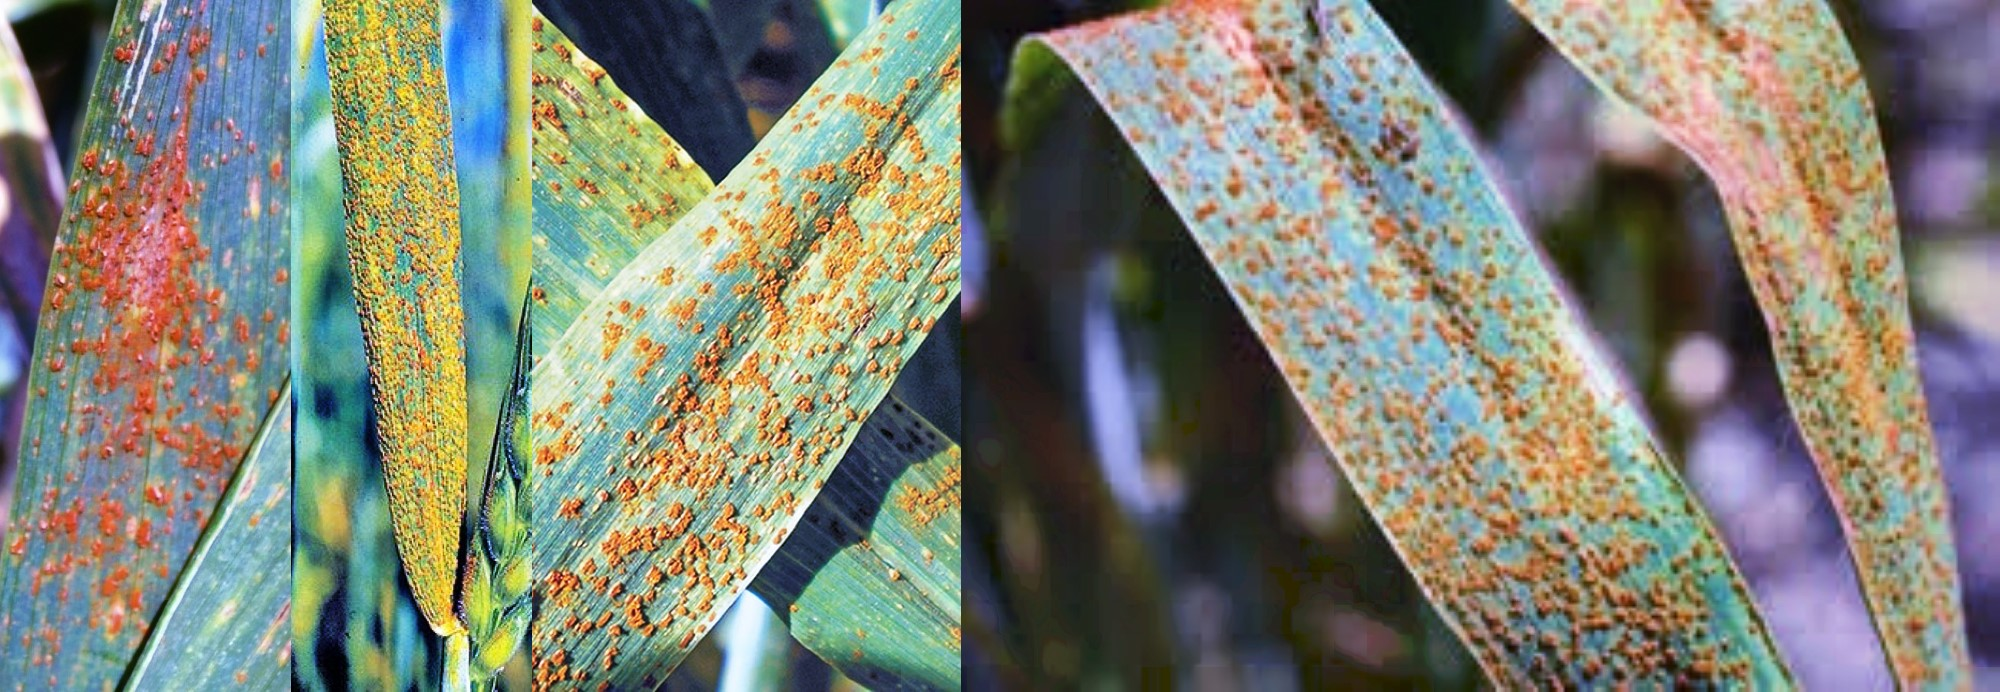Leaf Rust: (1142, 54, 1645, 638), (532, 112, 944, 632), (1, 60, 264, 638), (297, 19, 496, 581)
